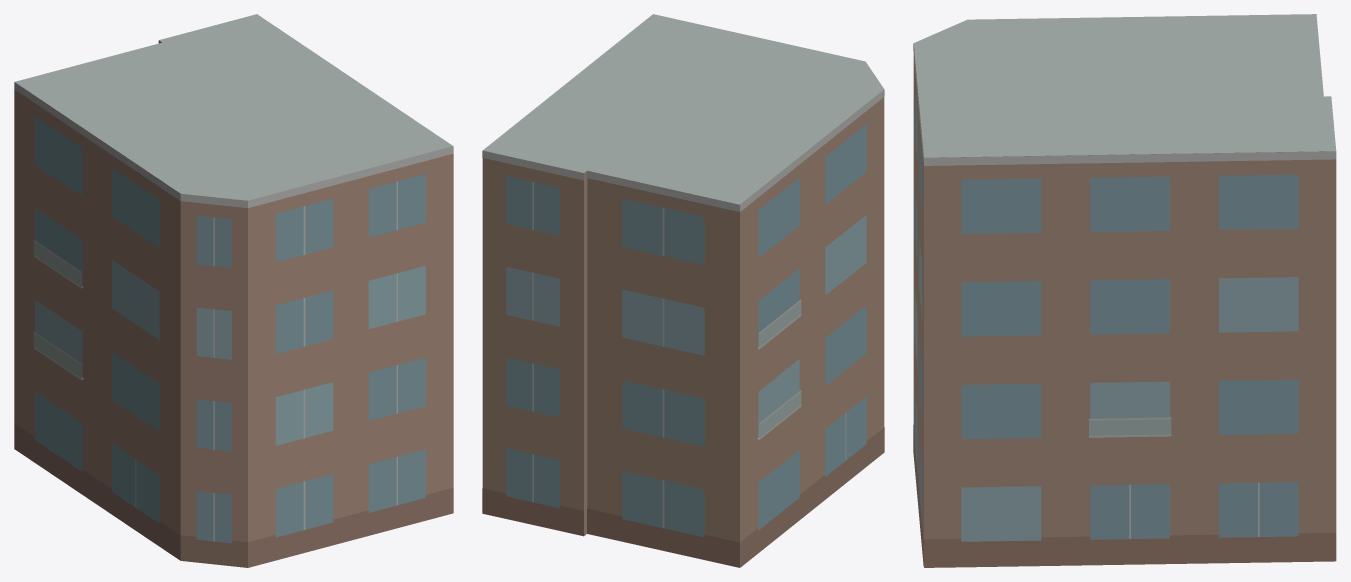
The model's file is survey-upis-32620142.glb.
3 renders of one model, left to right at view 1: azimuth 30°, elevation 25°; view 2: azimuth 150°, elevation 25°; view 3: azimuth 270°, elevation 25°, orthographic. The views are drawn at different scales.
Parts seen in each view (by area): view 1: survey-upis-32620142.tmp; view 2: survey-upis-32620142.tmp; view 3: survey-upis-32620142.tmp.
Part boxes in pixels (<box>): survey-upis-32620142.tmp: <box>14,14,453,567</box>; survey-upis-32620142.tmp: <box>482,14,884,567</box>; survey-upis-32620142.tmp: <box>913,14,1336,567</box>.
Bounding box in the file's own units: 9.1 × 12.1 × 11.31.
